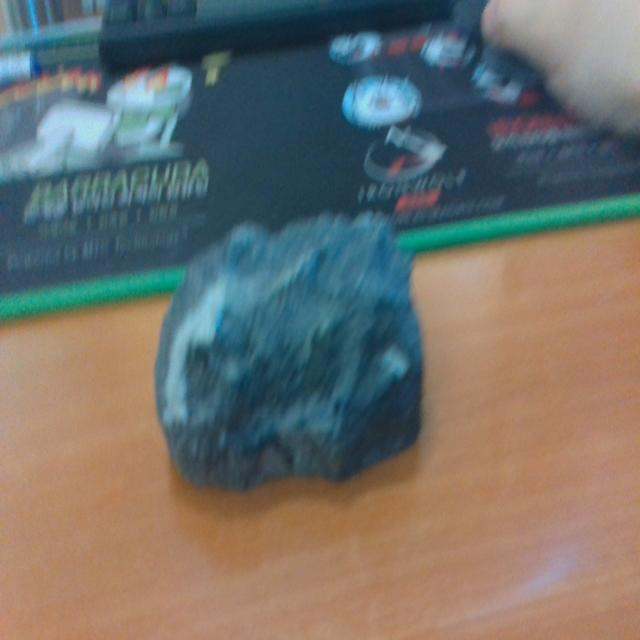stone: (150, 208, 426, 508)
